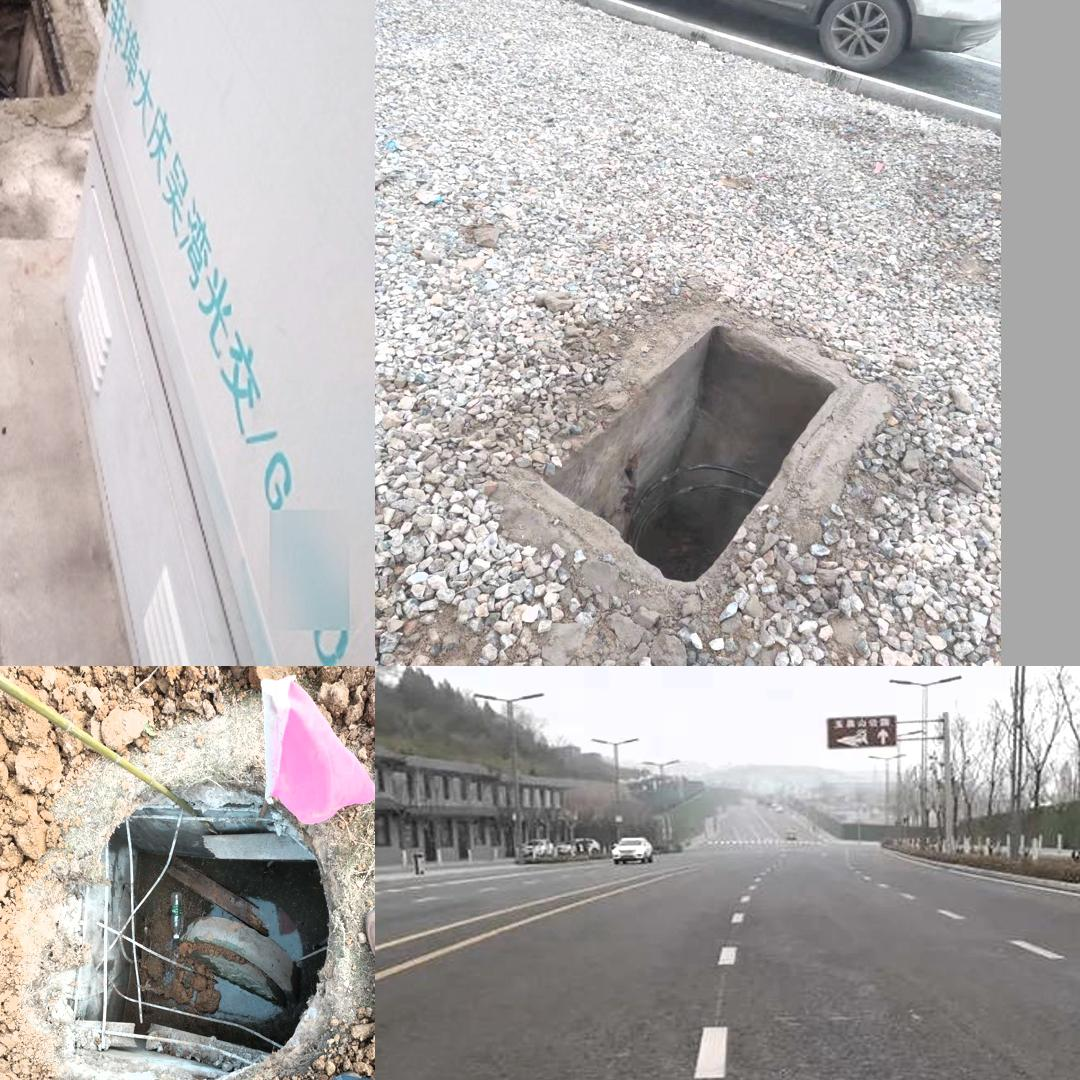lose: (17, 773, 344, 1080), (541, 322, 843, 585), (0, 0, 73, 107)
